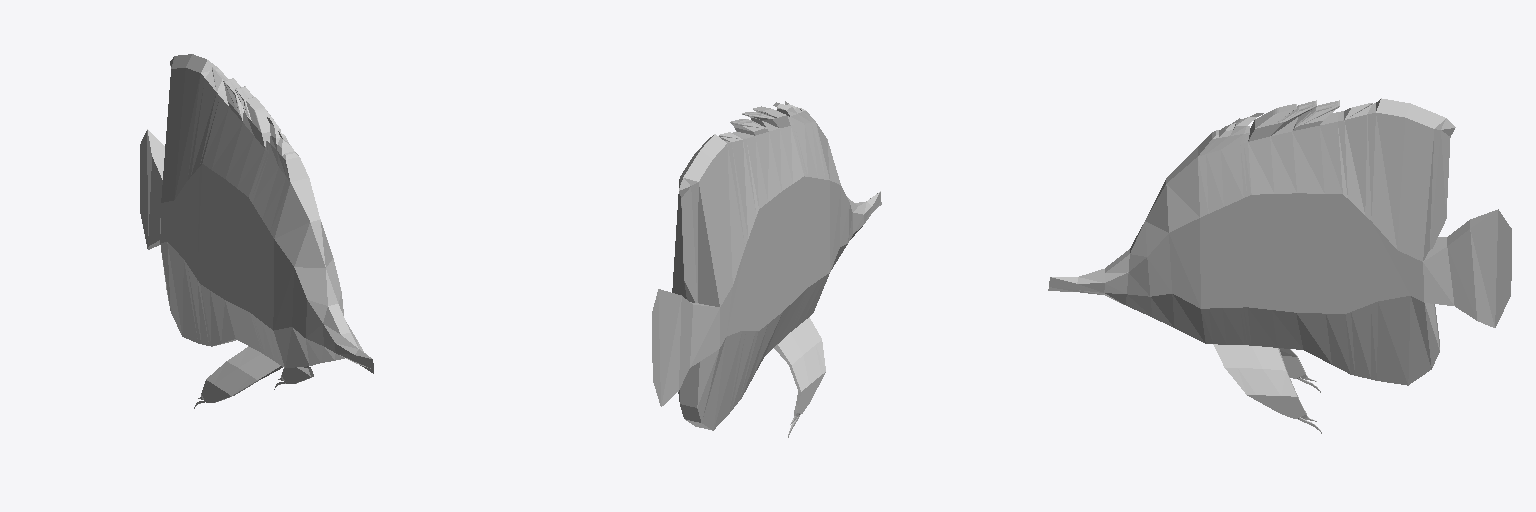
File: pez_amarillo.obj
3 views of the same model, side by side, from view 1: azimuth 30°, elevation 25°; view 2: azimuth 150°, elevation 25°; view 3: azimuth 270°, elevation 25° (orthographic).
Visible parts, largest first — view 1: Cube; view 2: Cube; view 3: Cube.
Boxes of the visible parts, x1=… form: Cube: x1=140, y1=54, x2=373, y2=408; Cube: x1=652, y1=101, x2=881, y2=437; Cube: x1=1048, y1=98, x2=1511, y2=433.
Bounding box in the file's own units: 0.683 × 2.47 × 3.27.